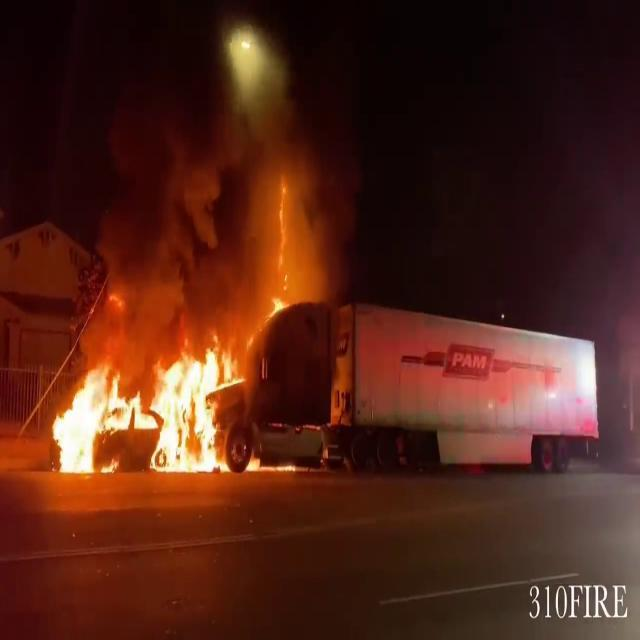Fire: (43, 332, 244, 480)
Smoke: (90, 63, 376, 335)
